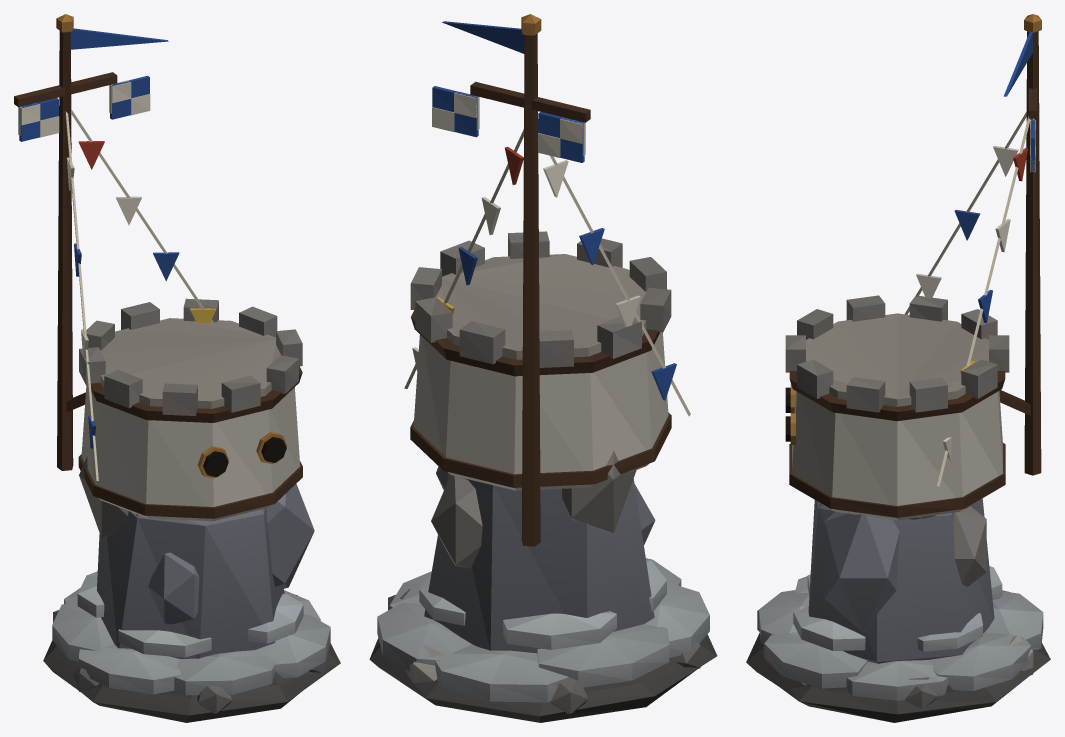
The model's file is twin_gaze.glb.
3 renders of one model, left to right at view 1: azimuth 30°, elevation 25°; view 2: azimuth 150°, elevation 25°; view 3: azimuth 270°, elevation 25°, orthographic. The views are drawn at different scales.
Parts seen in each view (by area): view 1: twin_gaze; view 2: twin_gaze; view 3: twin_gaze.
Part boxes in pixels (x1,y1,x2,y2): twin_gaze: (14, 14, 340, 722); twin_gaze: (369, 14, 717, 722); twin_gaze: (746, 14, 1050, 722).
Bounding box in the file's own units: 0.8711 × 2.02 × 0.9001.
